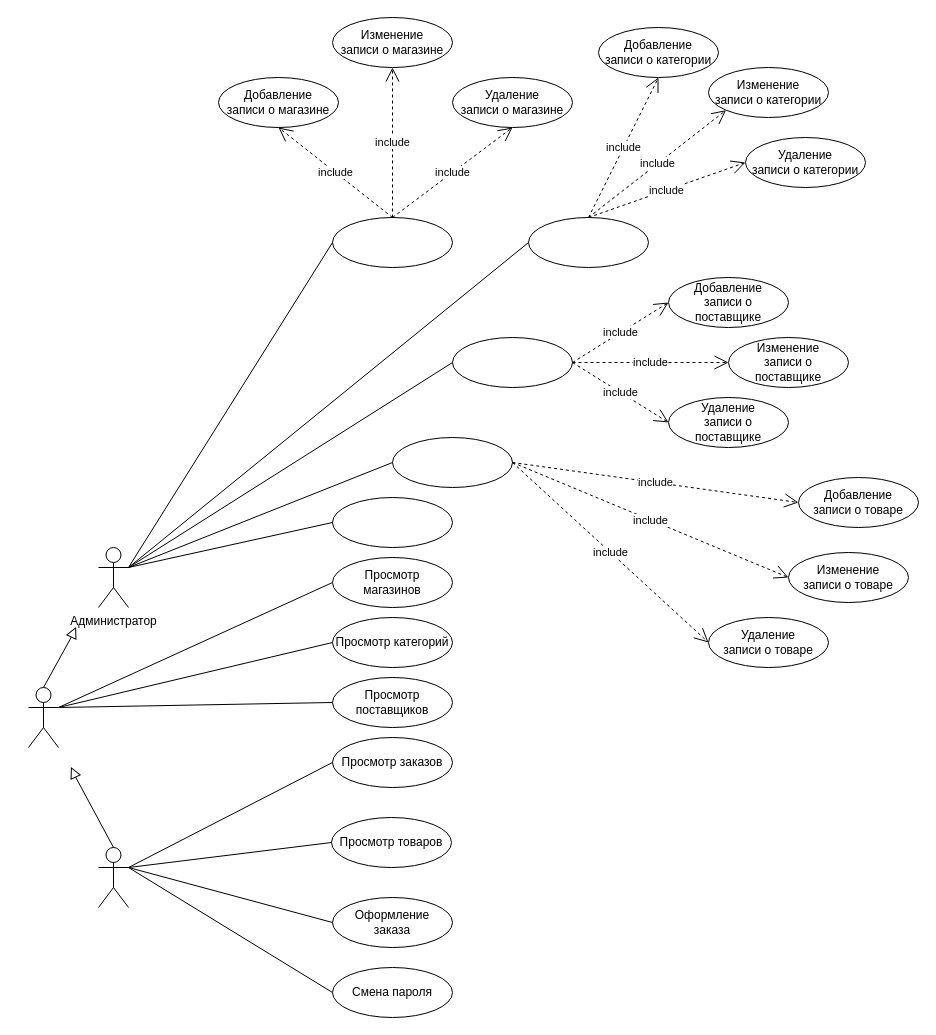
The diagram is 936 pixels wide and 1035 high, and some of its shapes have lost their labels. The centre of each missing label's shape, as x and y in pixels:
Клиент: point 113,877
Назначение ролей пользователям: point 392,522
Работник: point 43,717
Управление категориями: point 588,242
Управление магазинами: point 392,242
Управление поставщиками: point 512,362
Управление товарами: point 452,462
